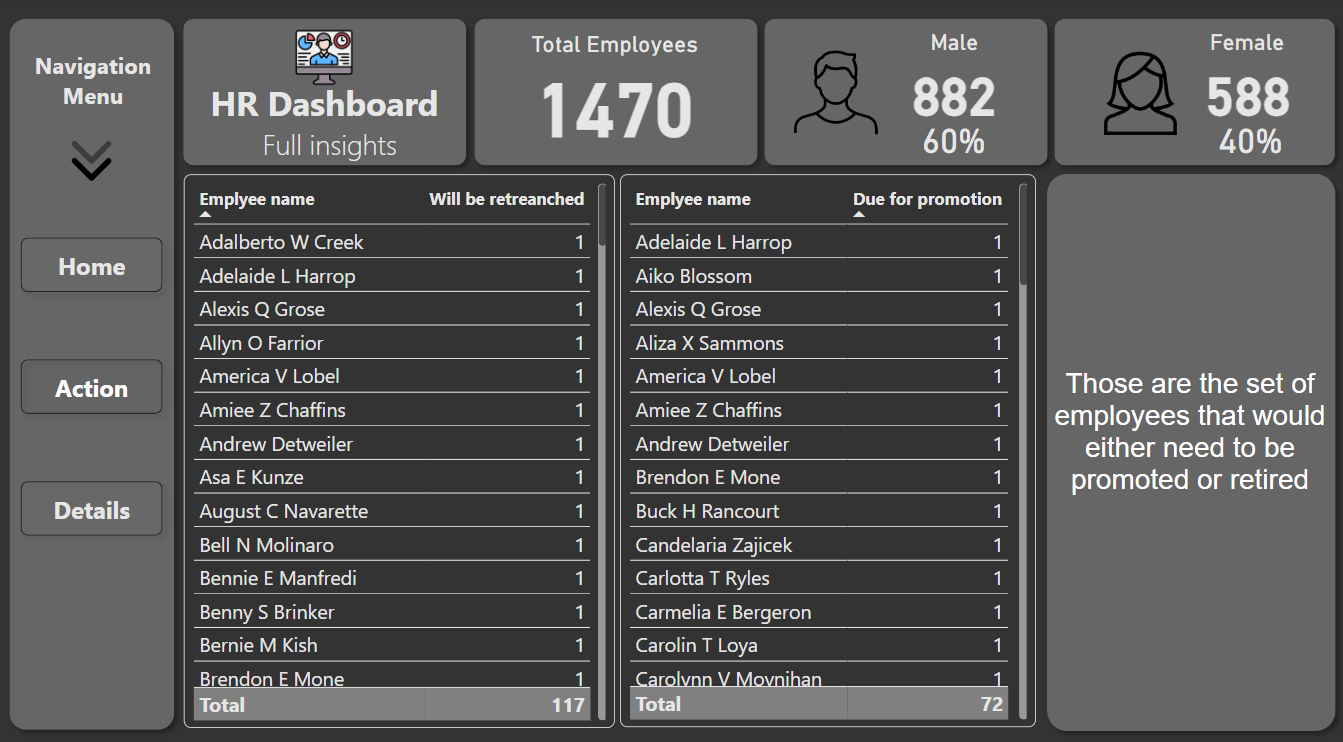

What the dashboard file says about the page in this screenshot:
{"tool":"powerbi","page":{"name":"Action","canvas":[1280,720],"ordinal":1},"visuals":[{"type":"shape","box":[0,10.7,174.9,695],"z":0},{"type":"shape","box":[165,11.2,287.5,157.5],"z":1000},{"type":"shape","box":[442.5,11.2,287.5,157.5],"z":2000},{"type":"shape","box":[718.8,11.2,287.5,157.5],"z":3000},{"type":"shape","box":[995,11.2,285,157.5],"z":4000},{"type":"textbox","box":[126.2,31.2,338.8,137.5],"z":5000},{"type":"image","box":[253.8,22.5,110,67.5],"z":6000},{"type":"cardVisual","title":"Total Employees","fields":{"Data":["All_Measure.Total_EMP"]},"box":[452.5,31.2,266.2,126.2],"z":7000},{"type":"cardVisual","title":"Male","fields":{"Data":["All_Measure.Male"]},"box":[810,30,196.2,93.8],"z":8000},{"type":"cardVisual","fields":{"Data":["All_Measure.% Male"]},"box":[850,100,116.2,57.5],"z":9000},{"type":"image","box":[745,43.8,101.2,92.5],"z":10000},{"type":"cardVisual","title":"Female","fields":{"Data":["All_Measure.Female"]},"box":[1095,30,185,93.8],"z":11000},{"type":"cardVisual","fields":{"Data":["All_Measure.% Female"]},"box":[1119.9,100,141.6,57.1],"z":12000},{"type":"image","box":[1041.2,43.8,88.8,93.8],"z":13000},{"type":"shape","box":[987.8,158.3,292.8,548.6],"z":14000},{"type":"tableEx","fields":{"Values":["HR employee data.Emplyee name","All_Measure.Will be retreanched"]},"box":[174.9,167.8,410.6,527.2],"z":15000},{"type":"tableEx","fields":{"Values":["HR employee data.Emplyee name","All_Measure.Due for promotion"]},"box":[590.3,167.8,396.3,526],"z":16000},{"type":"textbox","box":[994.9,347.5,276.1,150],"z":17000},{"type":"pageNavigator","box":[10.7,219,153.5,304.7],"z":17001},{"type":"textbox","box":[11.9,44,153.5,79.7],"z":17002},{"type":"image","box":[50,115.4,75,78.5],"z":17003}]}

Visuals, with their boxes in screenshot pixels (x1, y1, x2, y2), scaled from the page's 1280x720 canvas onto the 1343x742 screenshot:
shape: pyautogui.locateOnScreen(0, 11, 184, 727)
shape: pyautogui.locateOnScreen(173, 12, 475, 174)
shape: pyautogui.locateOnScreen(464, 12, 766, 174)
shape: pyautogui.locateOnScreen(754, 12, 1056, 174)
shape: pyautogui.locateOnScreen(1044, 12, 1342, 174)
textbox: pyautogui.locateOnScreen(132, 32, 488, 174)
image: pyautogui.locateOnScreen(266, 23, 382, 93)
"Total Employees" cardVisual: pyautogui.locateOnScreen(475, 32, 754, 162)
"Male" cardVisual: pyautogui.locateOnScreen(850, 31, 1056, 128)
cardVisual - All_Measure.% Male: pyautogui.locateOnScreen(892, 103, 1014, 162)
image: pyautogui.locateOnScreen(782, 45, 888, 140)
"Female" cardVisual: pyautogui.locateOnScreen(1149, 31, 1342, 128)
cardVisual - All_Measure.% Female: pyautogui.locateOnScreen(1175, 103, 1324, 162)
image: pyautogui.locateOnScreen(1092, 45, 1186, 142)
shape: pyautogui.locateOnScreen(1036, 163, 1342, 728)
tableEx - HR employee data.Emplyee name x All_Measure.Will be retreanched: pyautogui.locateOnScreen(184, 173, 614, 716)
tableEx - HR employee data.Emplyee name x All_Measure.Due for promotion: pyautogui.locateOnScreen(619, 173, 1035, 715)
textbox: pyautogui.locateOnScreen(1044, 358, 1334, 513)
pageNavigator: pyautogui.locateOnScreen(11, 226, 172, 540)
textbox: pyautogui.locateOnScreen(12, 45, 174, 127)
image: pyautogui.locateOnScreen(52, 119, 131, 200)
